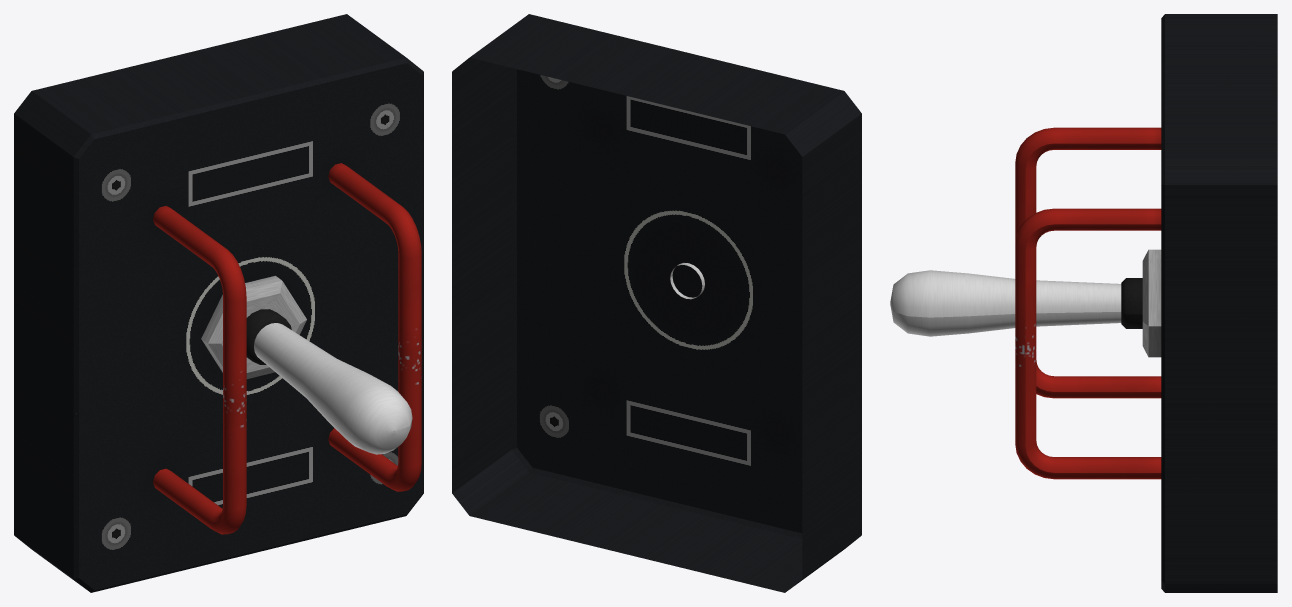
Rendered from mode_switch_hd.glb.
The picture shows the model from 3 angles, left to right: view 1: azimuth 30°, elevation 25°; view 2: azimuth 150°, elevation 25°; view 3: azimuth 270°, elevation 25°; orthographic projection. The views are drawn at different scales.
Parts seen in each view (by area): view 1: Panel, Bat; view 2: Panel; view 3: Panel, Bat.
Boxes of the visible parts, bbox=[...] form: Panel: bbox=[14, 14, 423, 592]; Bat: bbox=[249, 315, 412, 454]; Panel: bbox=[452, 14, 861, 592]; Panel: bbox=[1015, 14, 1277, 592]; Bat: bbox=[890, 270, 1121, 336].
Bounding box in the file's own units: 0.12 × 0.15 × 0.1215.
1 material, 1 textured.
